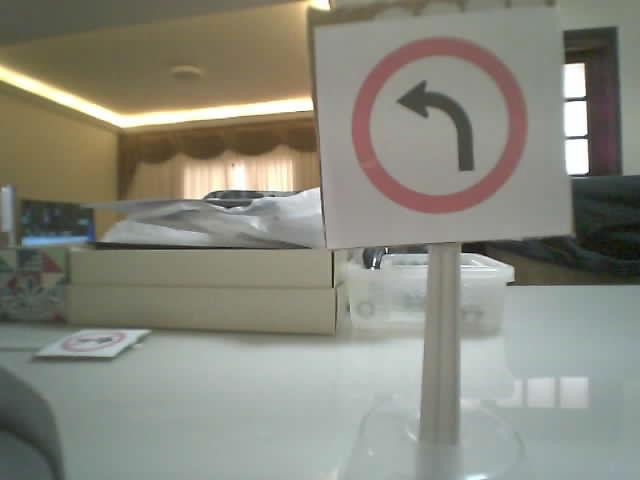R-25a_esquerda: (350, 37, 524, 213)
